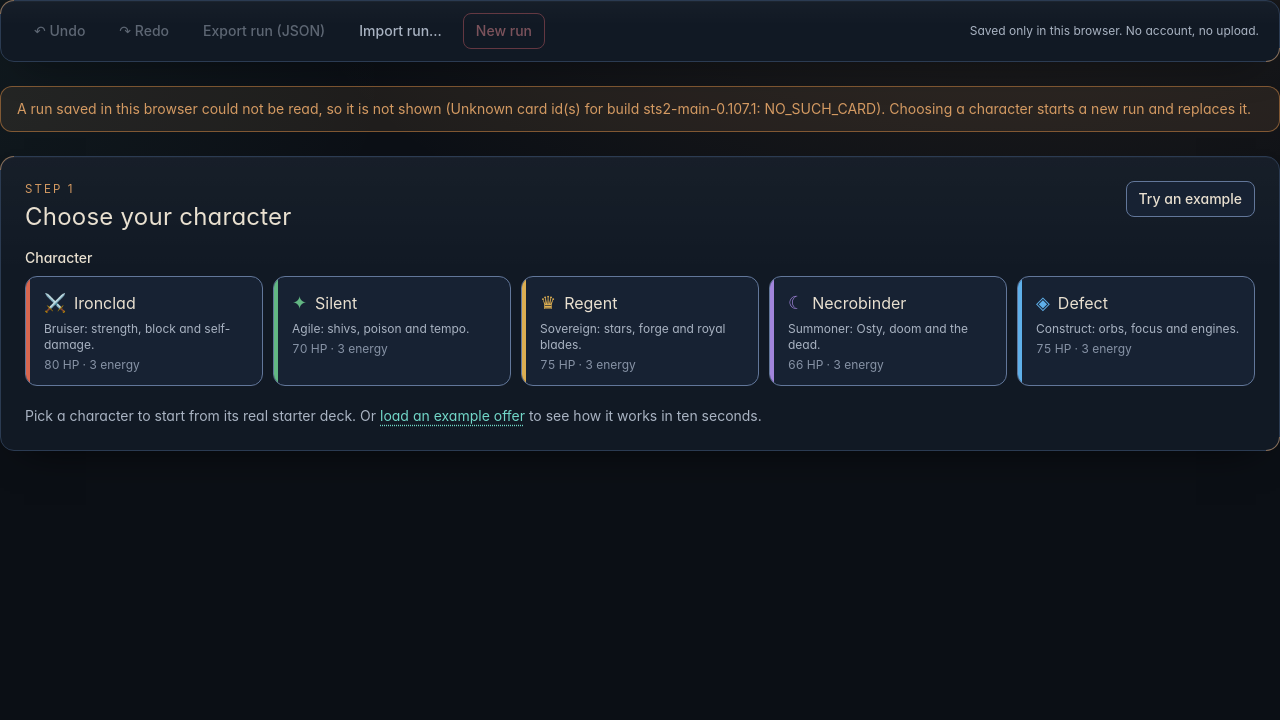
the advisor with a saved run it cannot read › says that the run could not be read and why, and the notice goes once a new run replaces it
Expected: the text "could not be read, so it is not shown" shows "Unknown card id(s) for build sts2-main-0.107.1: NO_SUCH_CARD).", x1=0 y1=86 x2=1279 y2=132
Expected: the text "could not be read, so it is not shown" shows "replaces it", x1=876 y1=100 x2=1251 y2=117
Click the text "Ironclad".
click(105, 303)  # box x1=74 y1=291 x2=136 y2=315
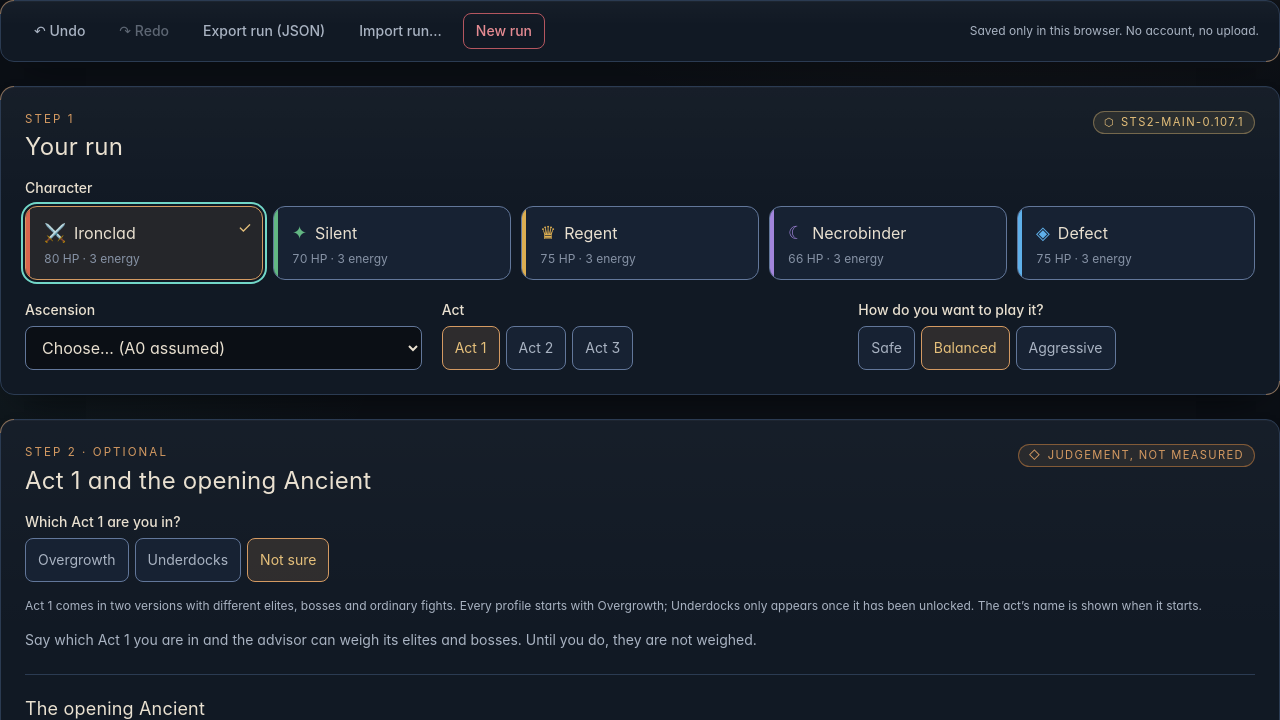
Result: the heading "Your run" is shown at x1=25 y1=132 x2=123 y2=162
Result: the text "could not be read, so it is not shown" is gone
